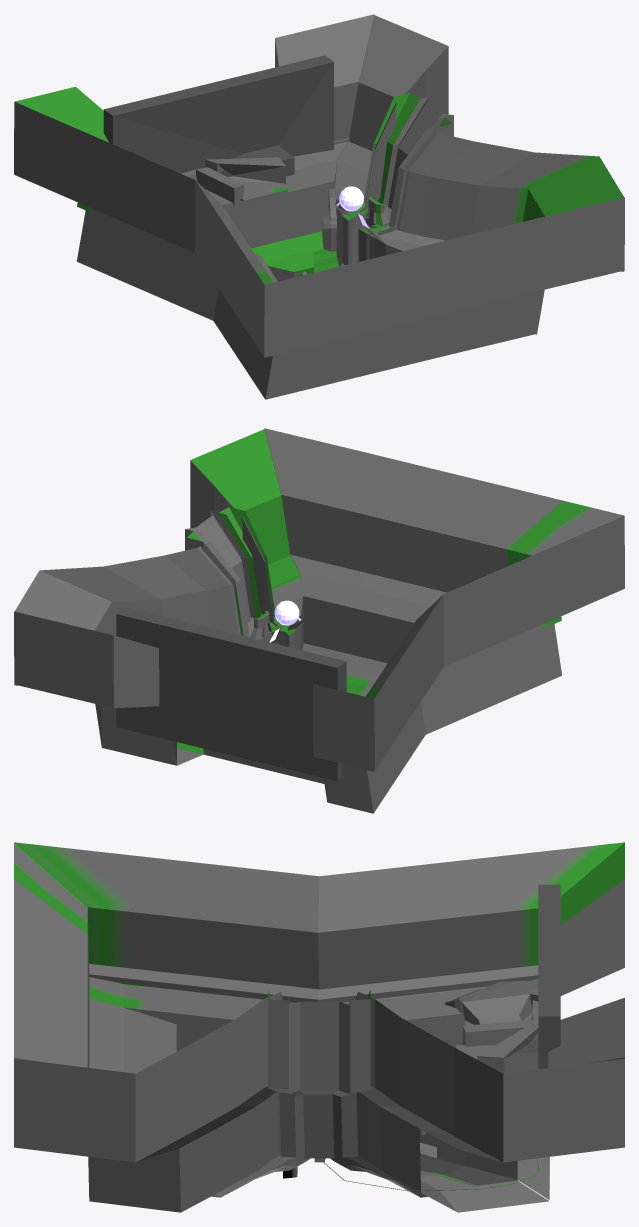
File: suelo2.0.glb
The picture shows the model from 3 angles, top to bottom: view 1: azimuth 30°, elevation 25°; view 2: azimuth 150°, elevation 25°; view 3: azimuth 270°, elevation 25°; orthographic projection. The views are drawn at different scales.
Visible parts, largest first — view 1: Cube; view 2: Cube; view 3: Cube.
Boxes of the visible parts, x1,y1,x2,y2 form: Cube: (14,14,624,399); Cube: (14,428,624,813); Cube: (14,842,624,1212).
Size of the model in its own units: 1587 by 748 by 1787.
Materials: 8 (4 with a texture image).
